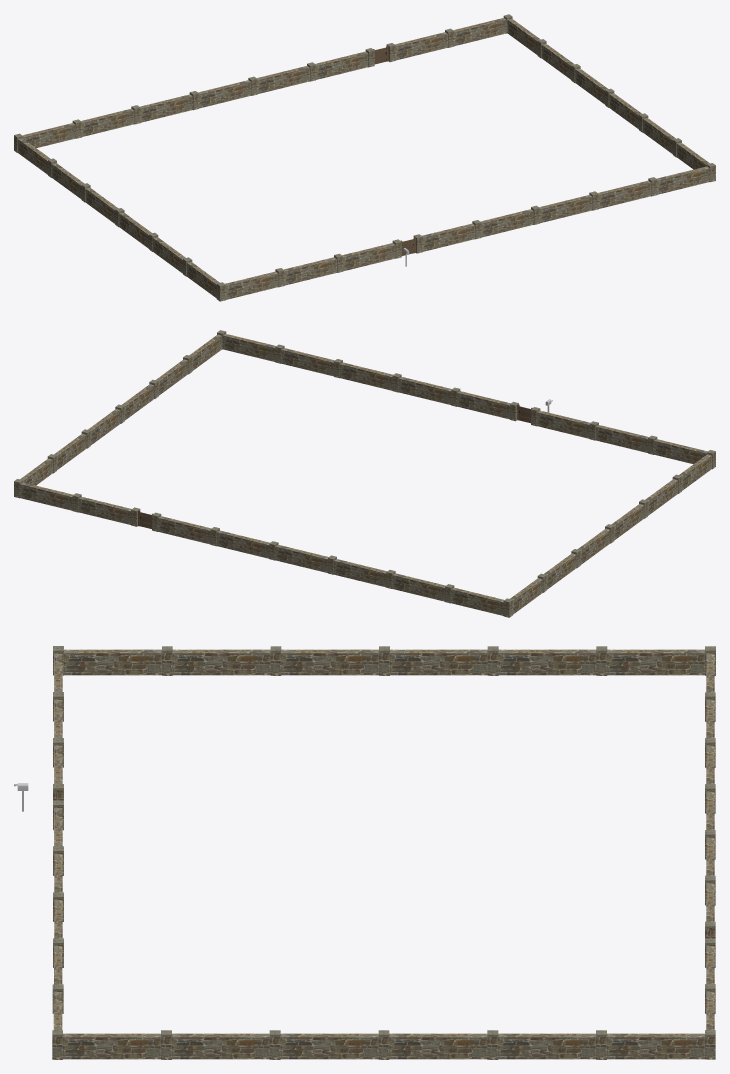
File: FarmFense03.fbx
3 views of the same model, one above another, from view 1: azimuth 30°, elevation 25°; view 2: azimuth 150°, elevation 25°; view 3: azimuth 270°, elevation 25° (orthographic). The views are drawn at different scales.
Visible parts, largest first — view 1: FarmFence4.001; view 2: FarmFence4.001; view 3: FarmFence4.001.
Part boxes in pixels (x1,y1,x2,y2): FarmFence4.001: [14, 14, 715, 301]; FarmFence4.001: [14, 330, 715, 617]; FarmFence4.001: [52, 646, 715, 1059].
Size of the model in its own units: 4321 by 144 by 3298.
